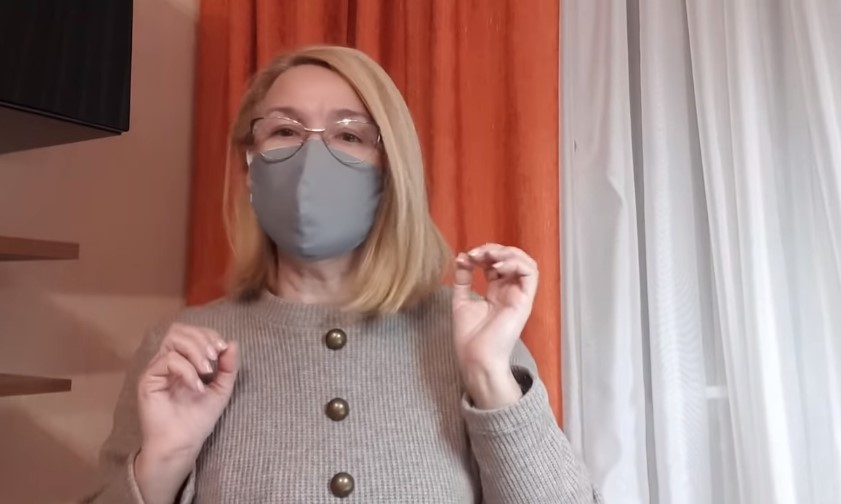face_with_mask: (242, 44, 402, 268)
